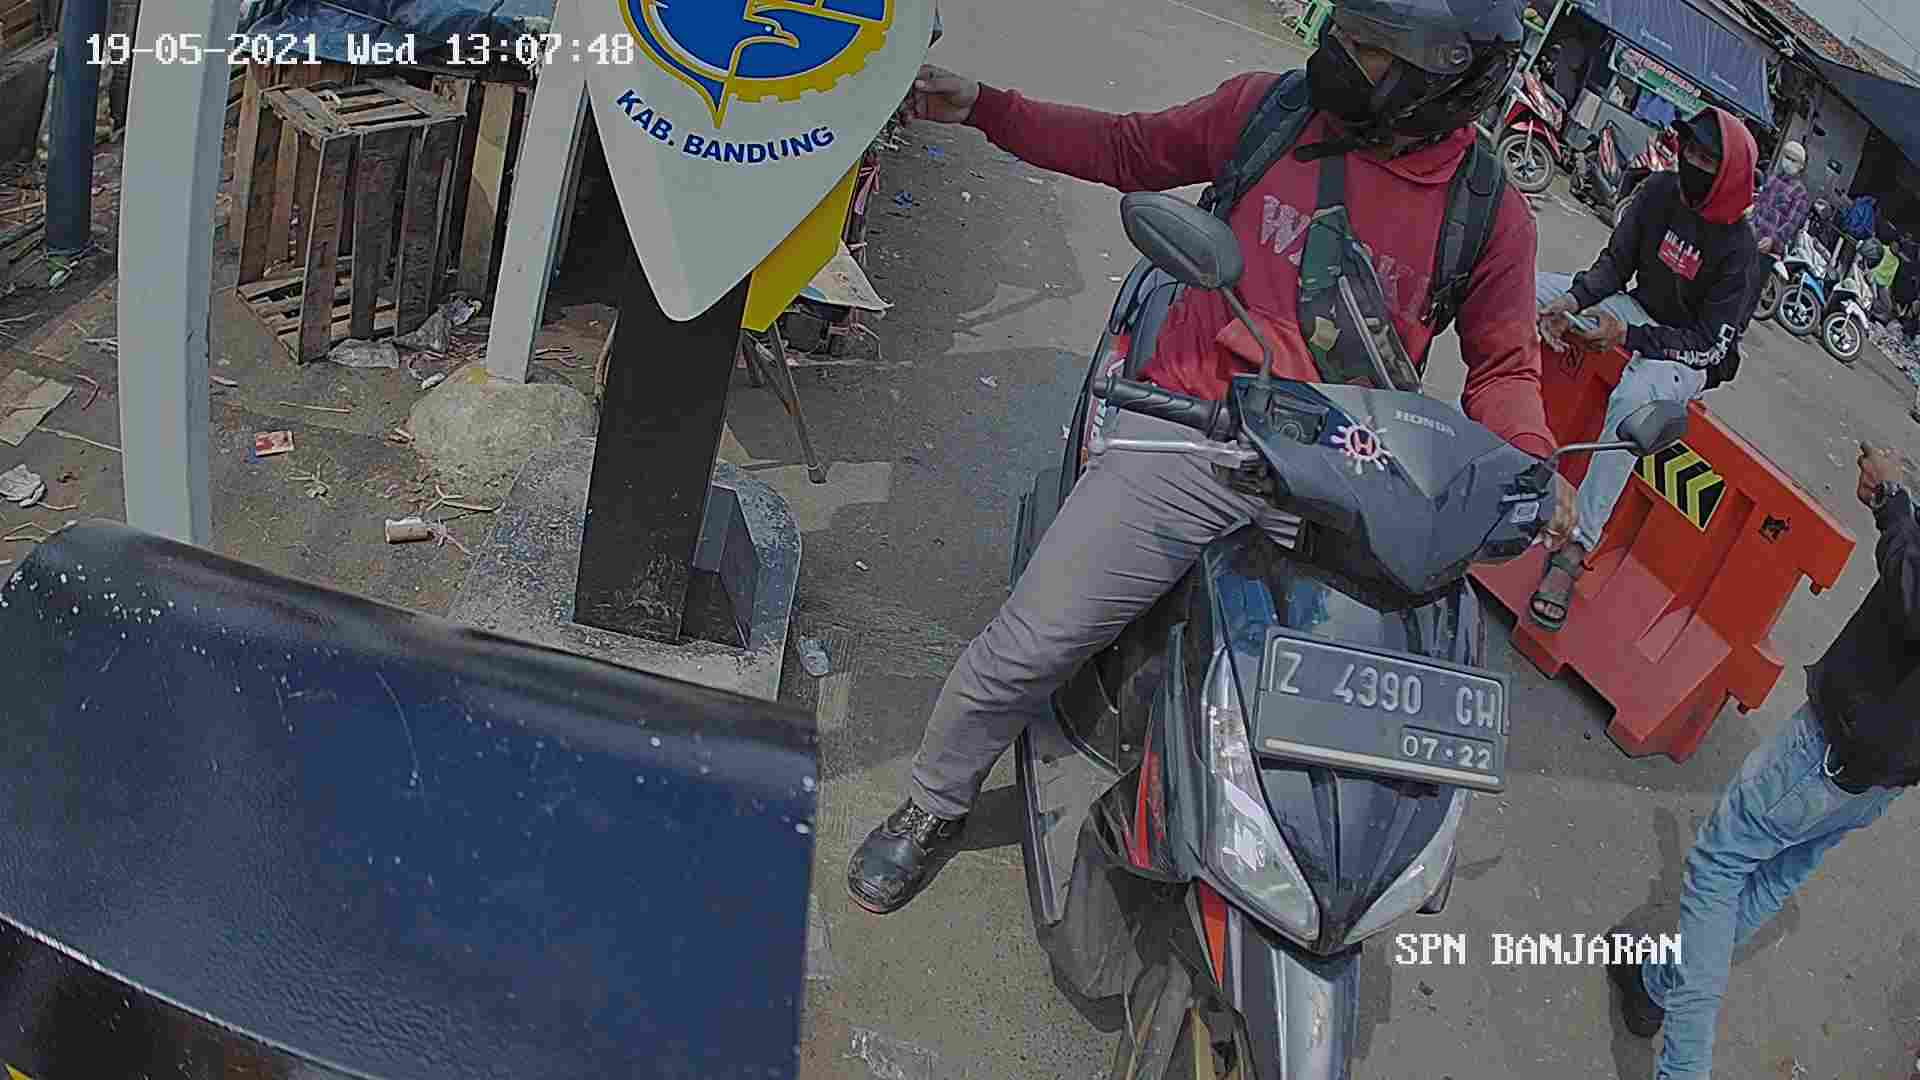motor: (1054, 323, 1519, 1080)
